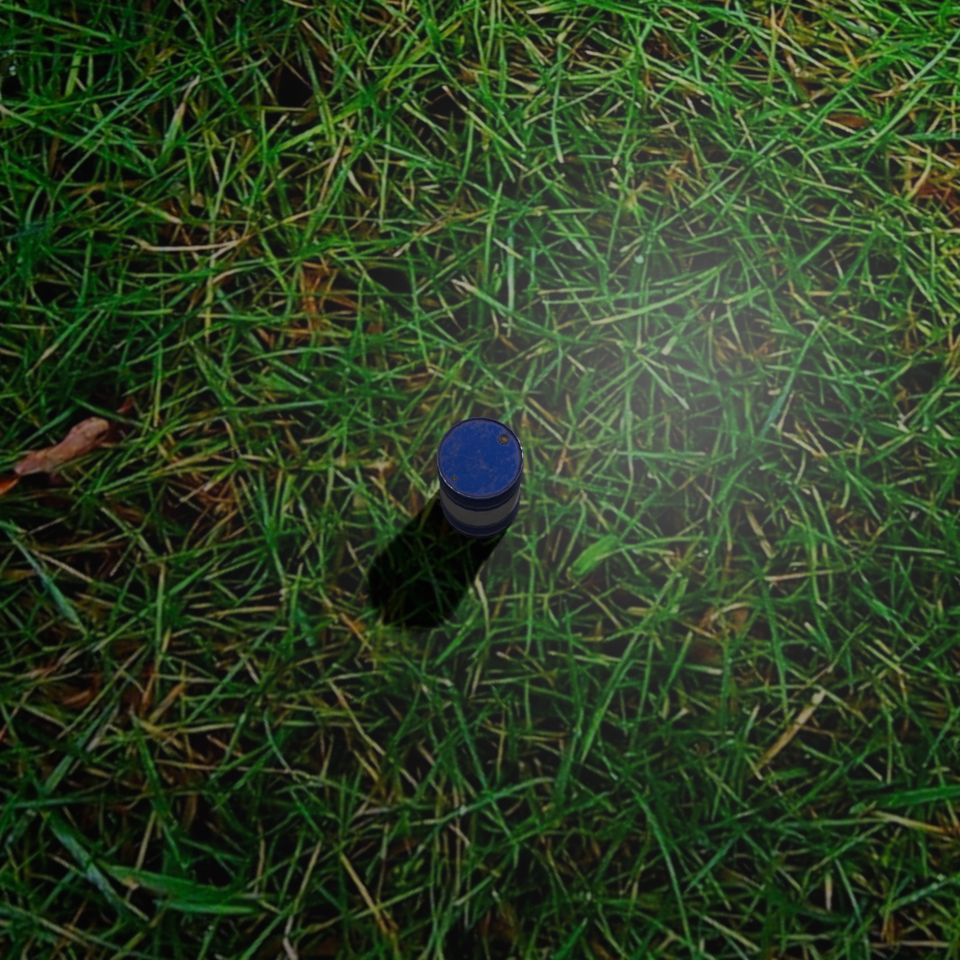circle: (436, 413, 522, 541)
